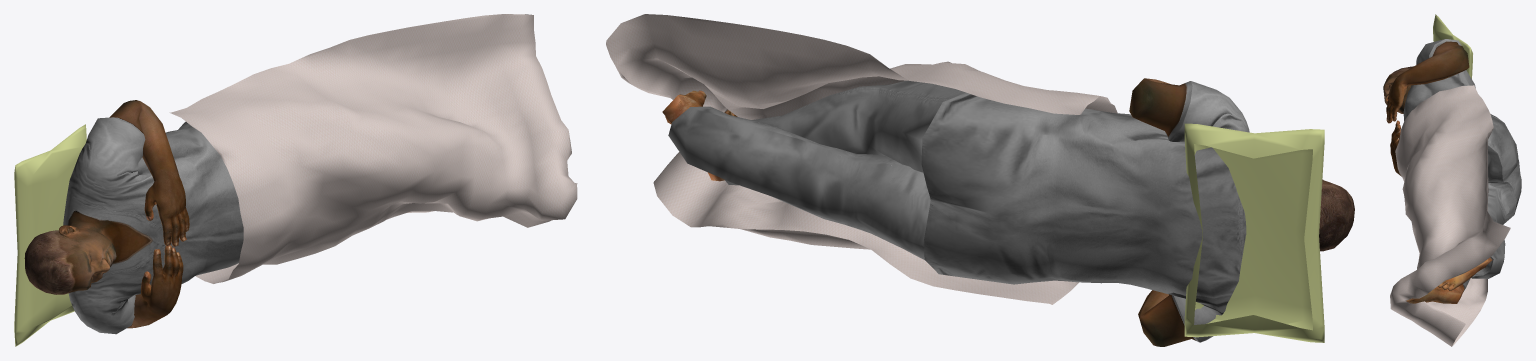
The model's file is patient_male.obj.
3 views of the same model, side by side, from view 1: azimuth 30°, elevation 25°; view 2: azimuth 150°, elevation 25°; view 3: azimuth 270°, elevation 25° (orthographic). The views are drawn at different scales.
Parts seen in each view (by area): view 1: patient; view 2: patient; view 3: patient.
Boxes of the visible parts, x1,y1,x2,y2 form: patient: [14, 14, 577, 346]; patient: [606, 14, 1354, 346]; patient: [1383, 14, 1521, 346].
Bounding box in the file's own units: 1.83 × 0.6951 × 0.543.
Materials: 3 (2 with a texture image).
